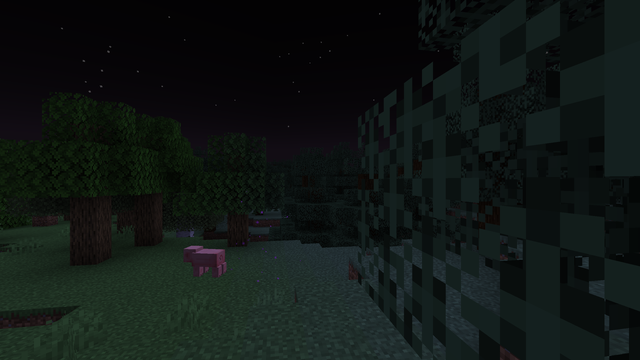cochons: (192, 247, 222, 279)
